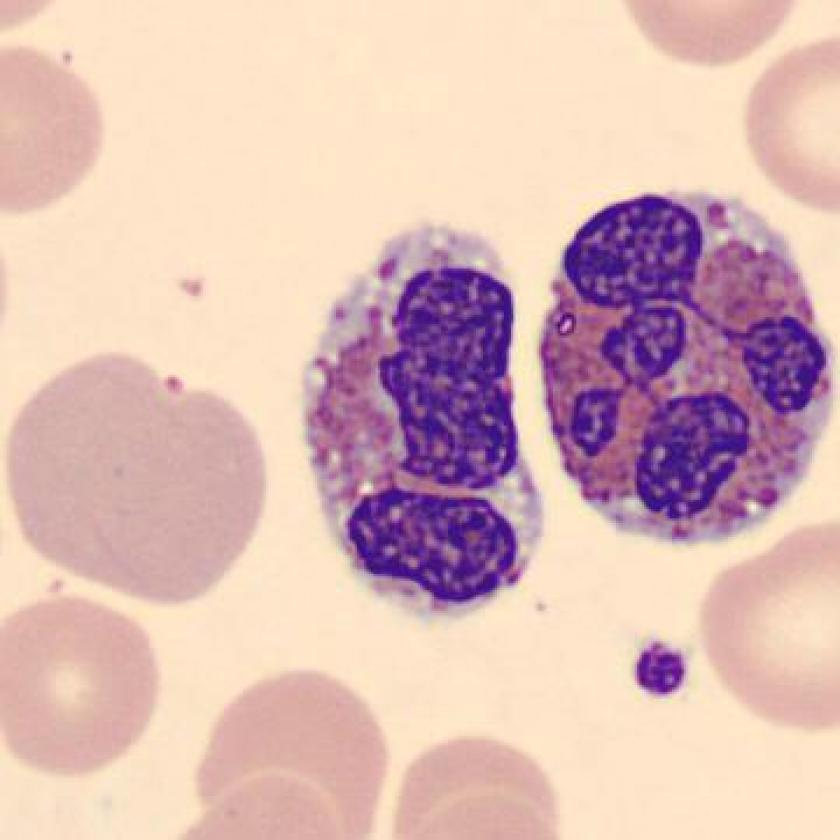eosinophil: (290, 207, 545, 633)
